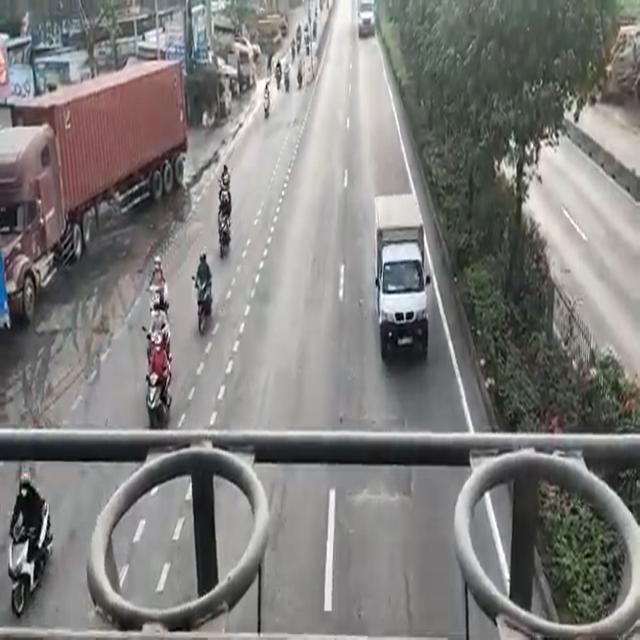motor: (8, 516, 53, 613), (191, 268, 216, 338), (144, 364, 168, 423), (140, 323, 179, 352), (216, 208, 236, 257), (149, 273, 167, 314)
truck: (0, 54, 183, 269), (371, 194, 432, 360)
